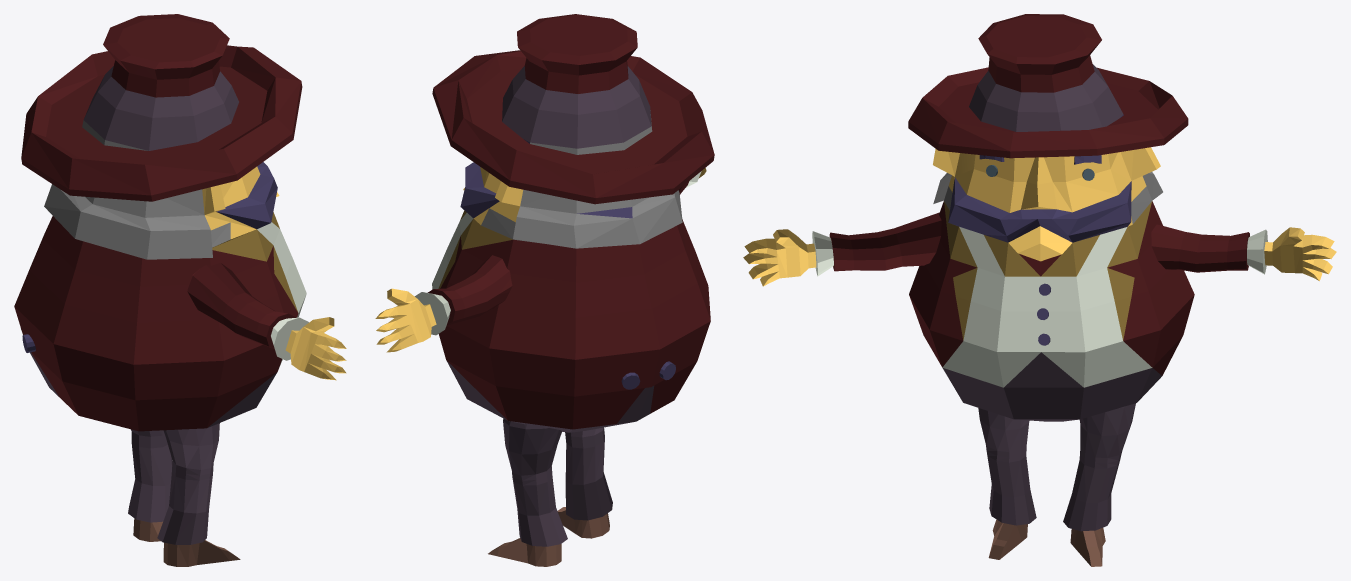
Rendered from Patron.fbx.
3 renders of one model, left to right at view 1: azimuth 30°, elevation 25°; view 2: azimuth 150°, elevation 25°; view 3: azimuth 270°, elevation 25°, orthographic. The views are drawn at different scales.
Visible parts, largest first — view 1: group178796802; view 2: group178796802; view 3: group178796802.
Boxes of the visible parts, box(x1,y1,x2,y2) form: group178796802: box(14, 14, 346, 566); group178796802: box(375, 14, 714, 566); group178796802: box(743, 14, 1336, 566).
Bounding box in the file's own units: 46.07 × 91.67 × 98.07.
